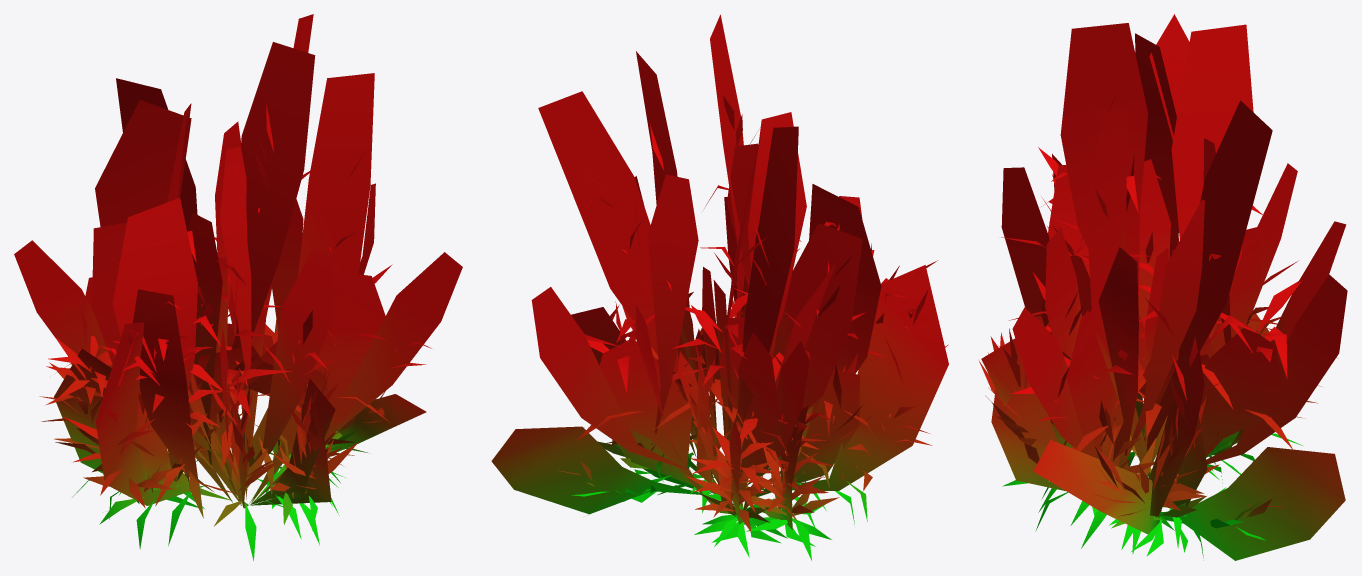
Rendered from Var1_LOD6.fbx.
3 renders of one model, left to right at view 1: azimuth 30°, elevation 25°; view 2: azimuth 150°, elevation 25°; view 3: azimuth 270°, elevation 25°, orthographic. The views are drawn at different scales.
Visible parts, largest first — view 1: _8a68_Var1_LOD6; view 2: _8a68_Var1_LOD6; view 3: _8a68_Var1_LOD6.
Part boxes in pixels (left/top/right/bottom): _8a68_Var1_LOD6: left=14, top=14, right=462, bottom=560; _8a68_Var1_LOD6: left=491, top=14, right=948, bottom=560; _8a68_Var1_LOD6: left=979, top=14, right=1347, bottom=560.
Bounding box in the file's own units: 31.77 × 41.65 × 27.08.
